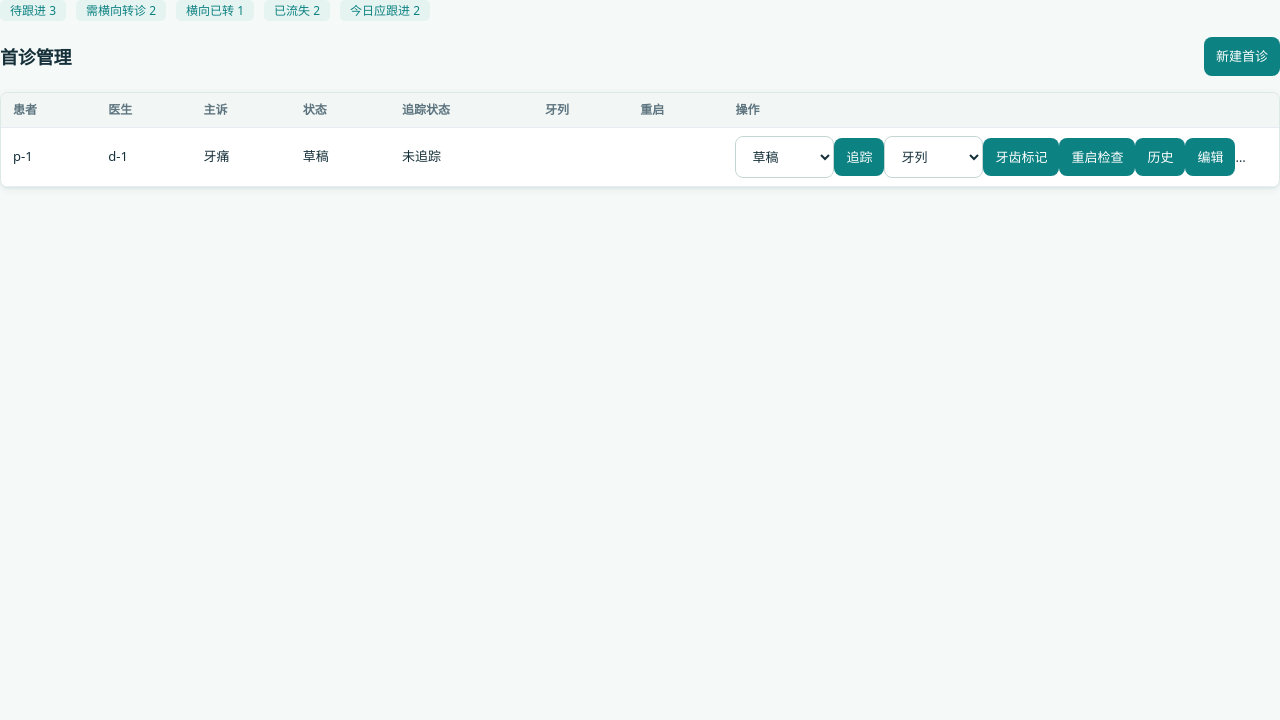
it: FirstExamsPage › validates required fields
The width and height of the screenshot is (1280, 720).
Expected: the text "牙痛" is shown, 192,127 -> 291,186
Click the button "新建首诊" at (1242, 57), box 1204,37 -> 1279,76
(page scrolled)
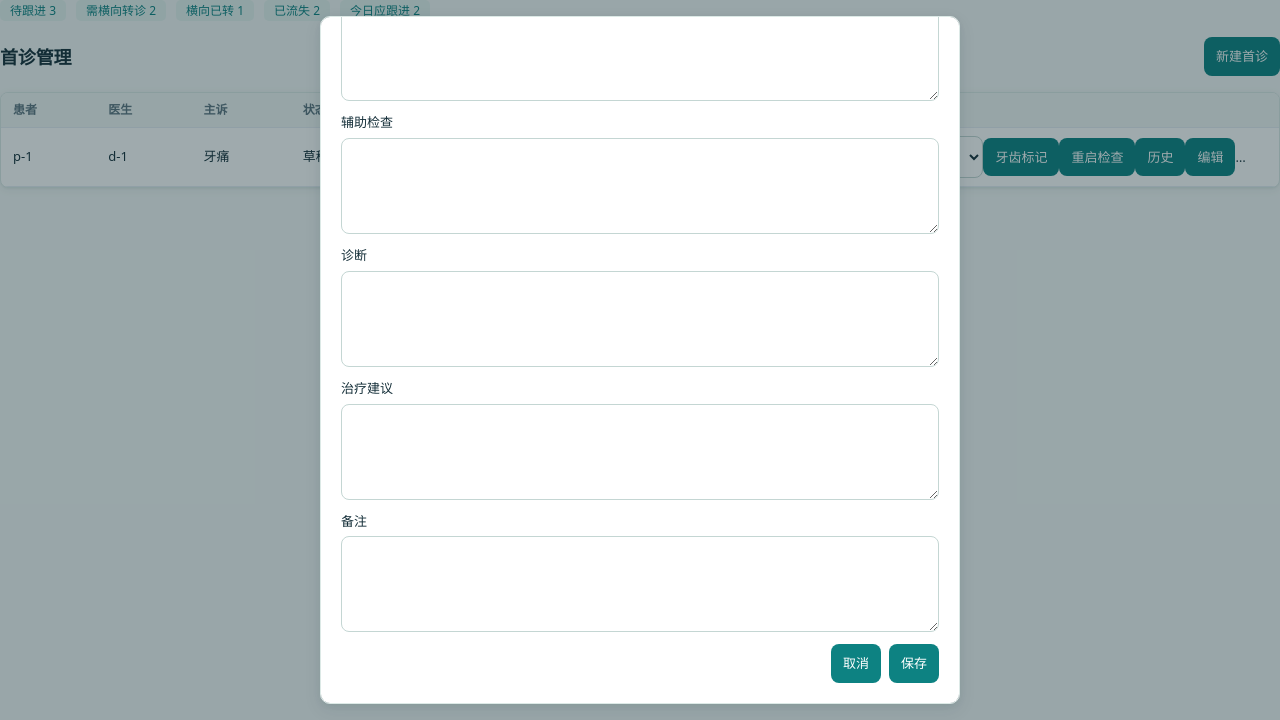
Click the button "保存" at (914, 664), box 889,644 -> 939,683
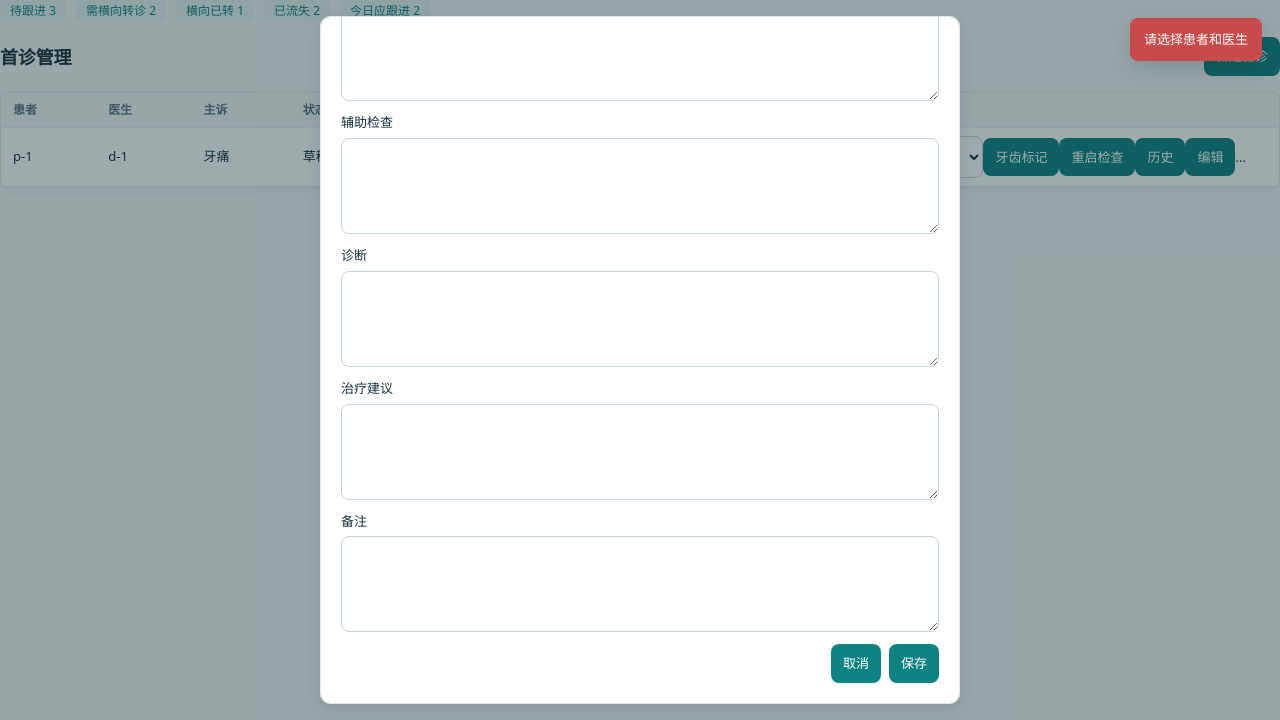
Result: the text "请选择患者和医生" is shown at 1130,18 -> 1262,61
